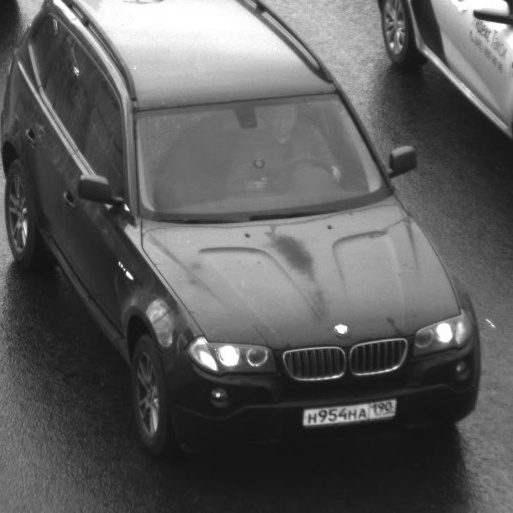plate: (290, 387, 404, 434)
